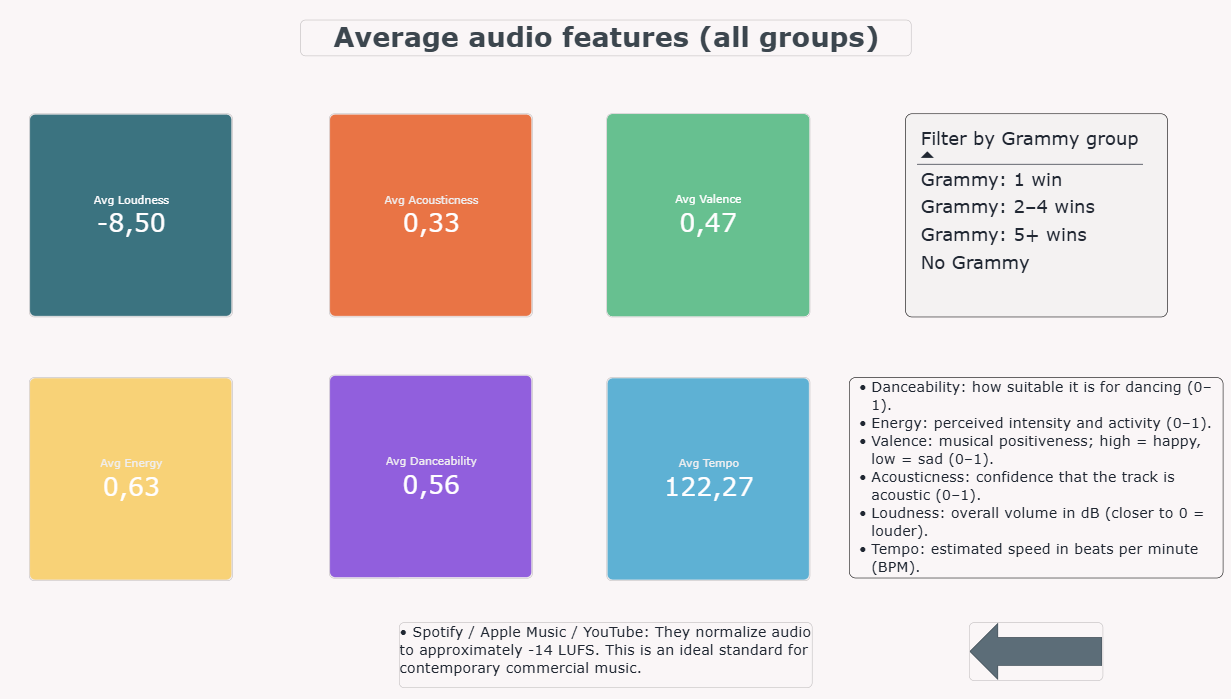

What the dashboard file says about the page in this screenshot:
{"tool":"powerbi","page":{"name":"KPI-02: Audio features by group and tier","canvas":[1920,1080],"ordinal":1},"visuals":[{"type":"textbox","title":"Average audio features (all groups)","box":[546.6,57.1,900,53.4],"z":0},{"type":"cardVisual","fields":{"Data":["public fact_track.Avg Loudness"]},"box":[146.4,195.2,300,300],"z":1000},{"type":"cardVisual","fields":{"Data":["public fact_track.Avg Acousticness"]},"box":[588.1,195.3,300,300],"z":2000},{"type":"cardVisual","fields":{"Data":["public fact_track.Avg Tempo"]},"box":[996.8,583.2,300,300],"z":3000},{"type":"cardVisual","fields":{"Data":["public fact_track.Avg Danceability"]},"box":[588.3,580.6,300,300],"z":4000},{"type":"cardVisual","fields":{"Data":["public fact_track.Avg Energy"]},"box":[146.4,583.2,300,300],"z":5000},{"type":"cardVisual","fields":{"Data":["public fact_track.Avg Valence"]},"box":[996.8,195.2,300,300],"z":6000},{"type":"tableEx","fields":{"Values":["public dim_grammy_recognition.Recognition Label"]},"box":[1437.2,195.3,386.6,300.2],"z":7000},{"type":"textbox","box":[1355,583.9,551,296.1],"z":8000},{"type":"shape","box":[1531.8,943.8,197.4,86.4],"z":9000},{"type":"textbox","box":[692.9,943.8,608.6,96.6],"z":10000}]}

Visuals, with their boxes in screenshot pixels (x1, y1, x2, y2), scaled from the page's 1920x1080 canvas onto the 1231x699 screenshot:
"Average audio features (all groups)" textbox: detection(350, 37, 927, 72)
cardVisual - public fact_track.Avg Loudness: detection(94, 126, 286, 321)
cardVisual - public fact_track.Avg Acousticness: detection(377, 126, 569, 321)
cardVisual - public fact_track.Avg Tempo: detection(639, 377, 831, 572)
cardVisual - public fact_track.Avg Danceability: detection(377, 376, 570, 570)
cardVisual - public fact_track.Avg Energy: detection(94, 377, 286, 572)
cardVisual - public fact_track.Avg Valence: detection(639, 126, 831, 321)
tableEx - public dim_grammy_recognition.Recognition Label: detection(921, 126, 1169, 321)
textbox: detection(869, 378, 1222, 570)
shape: detection(982, 611, 1109, 667)
textbox: detection(444, 611, 834, 673)
